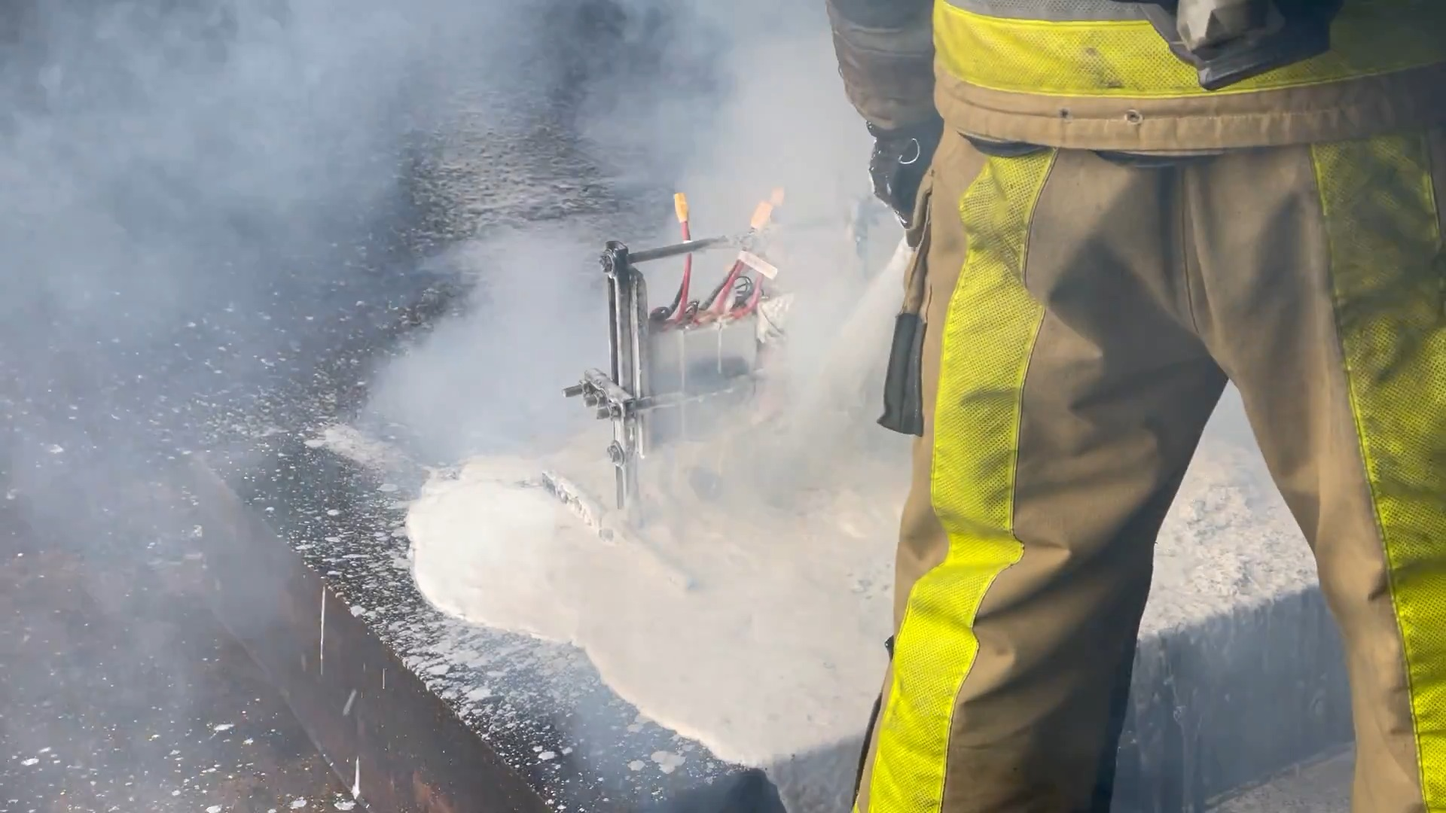smoke: (4, 0, 901, 468)
